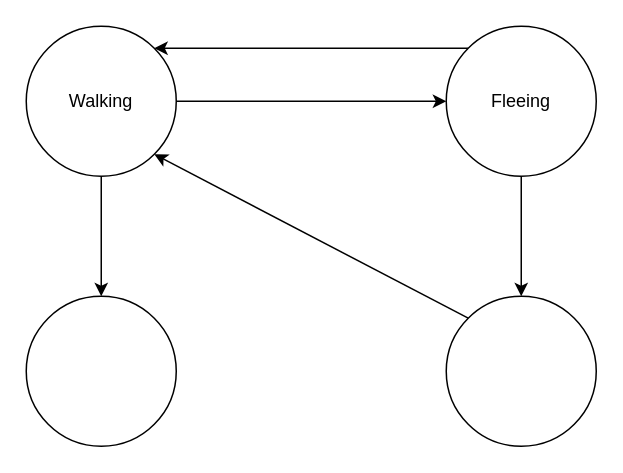
The diagram is 623 pixels wide and 473 high, and some of its shapes have lost their labels. Each missing label, with the centre of its shape:
Carrying: the point at 100,370
Hiding: the point at 520,370
